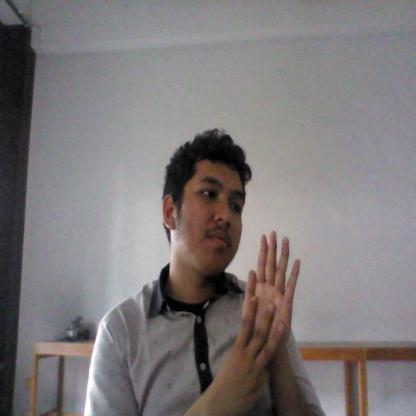M: (221, 226, 308, 401)
